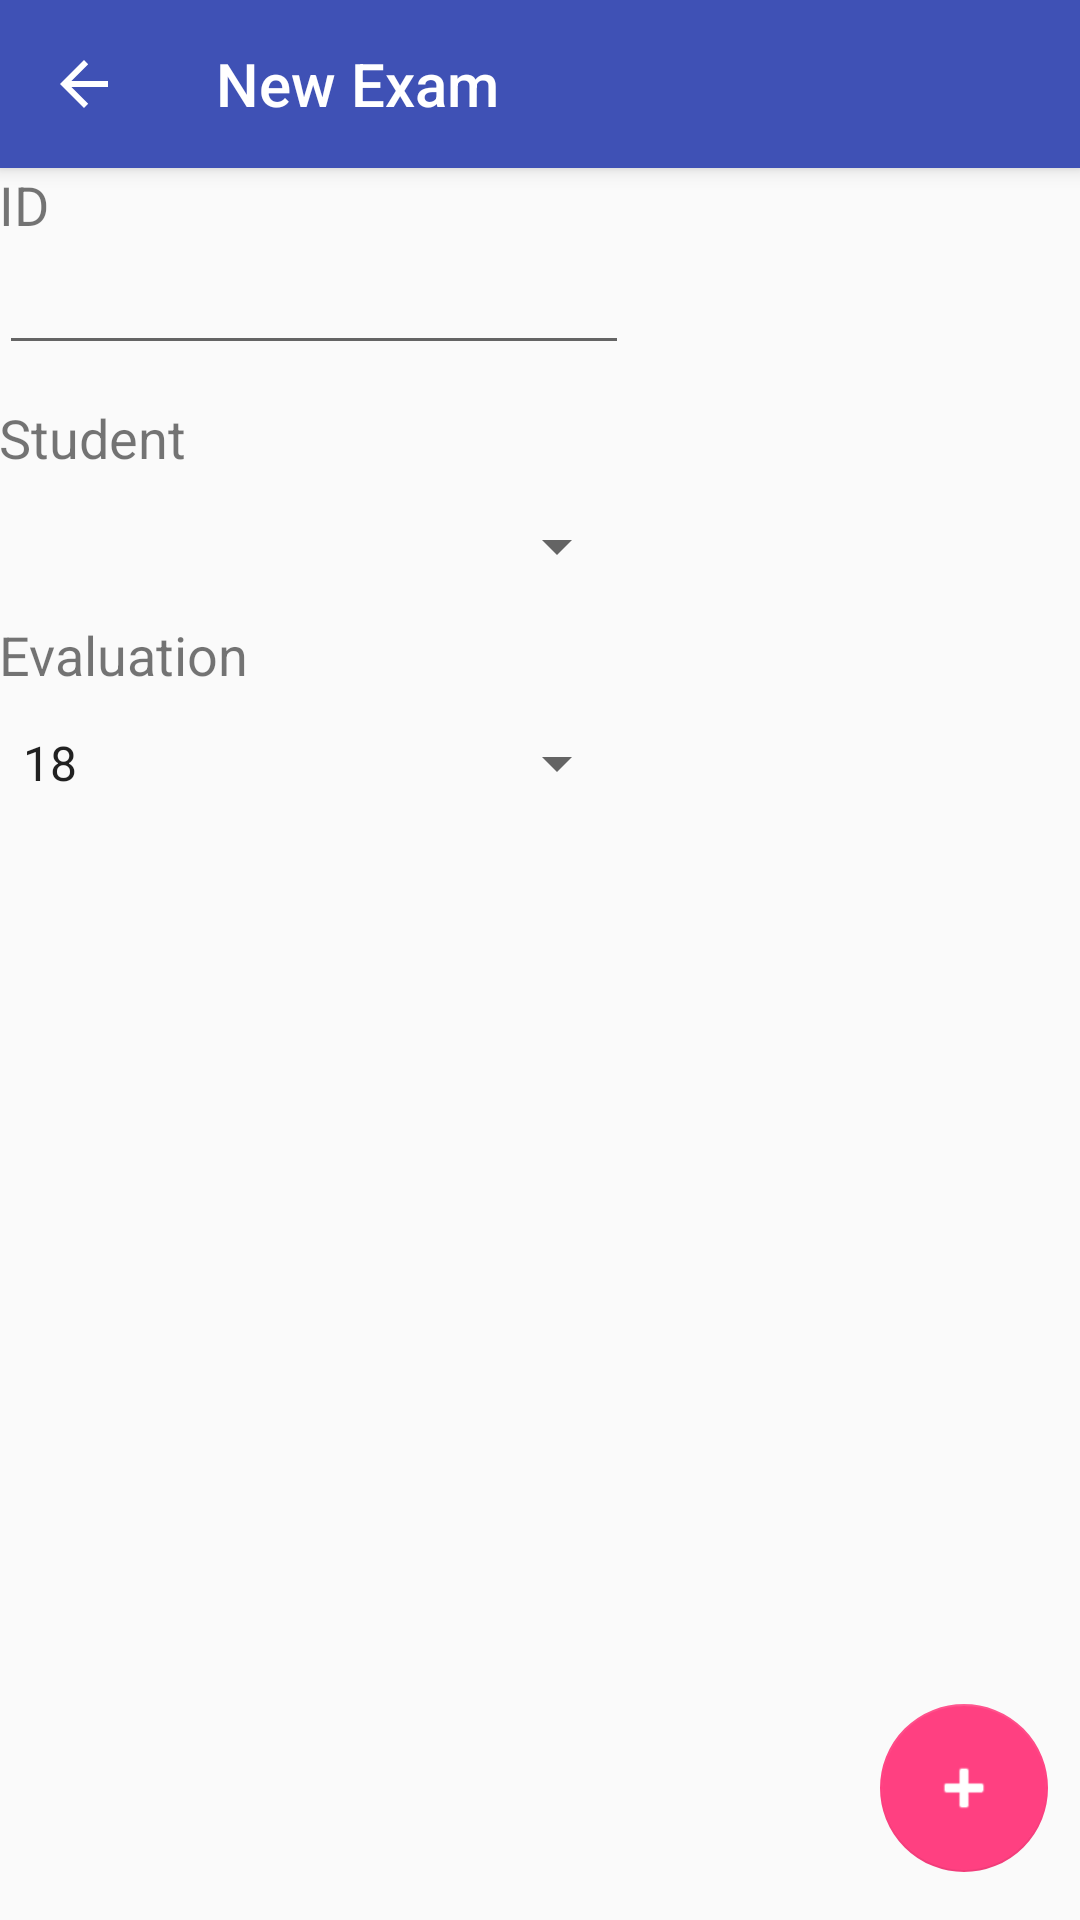

Locate icon controls on the screen. Image size 1080×1920, boxes as (left=x1, top=y1, right=x2, bottom=y2).
add: (left=880, top=1704, right=1048, bottom=1872)
